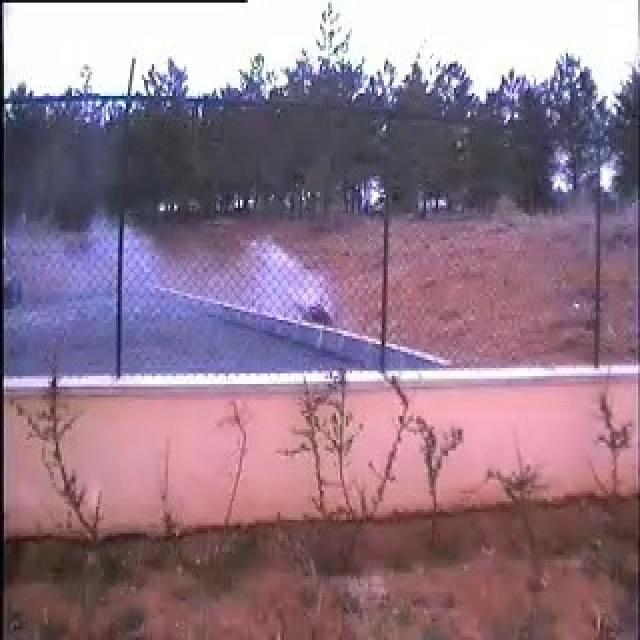smoke: (58, 184, 342, 360)
